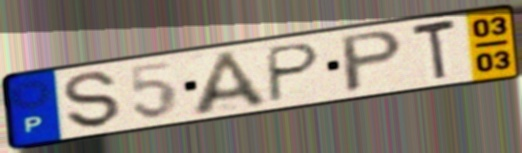5: (127, 60, 183, 121)
A: (190, 48, 274, 118)
P: (339, 28, 407, 97), (265, 40, 324, 106)
S: (61, 69, 124, 130)
T: (409, 16, 460, 85)
